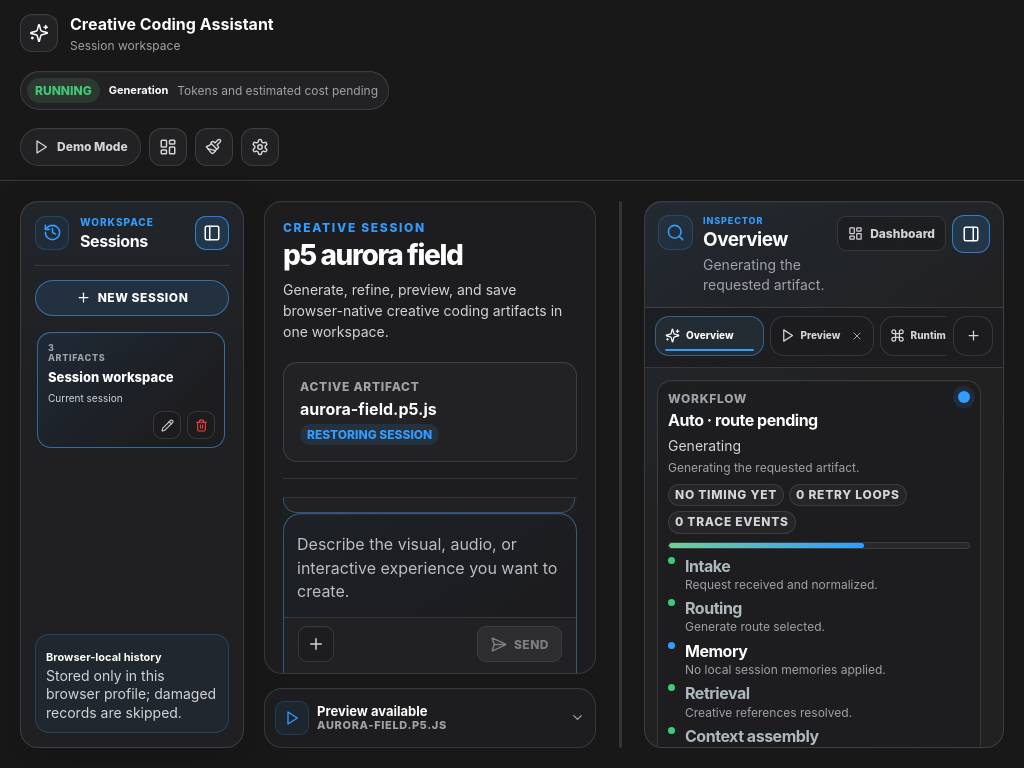
WorkstationShell › renders the three-zone creative workspace shell
The image size is (1024, 768).
(page scrolled)
Click the button named "Settings" at (260, 147), box left=241, top=128, right=279, bottom=166
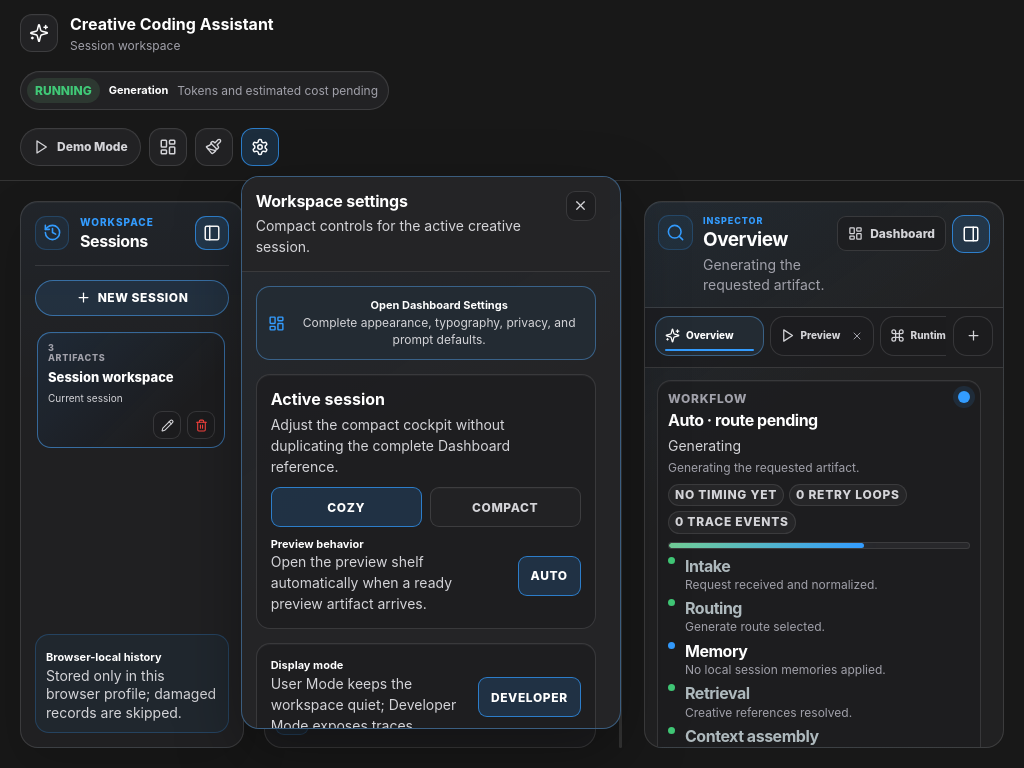
Click the button named "Settings" at (260, 147), box left=241, top=128, right=279, bottom=166
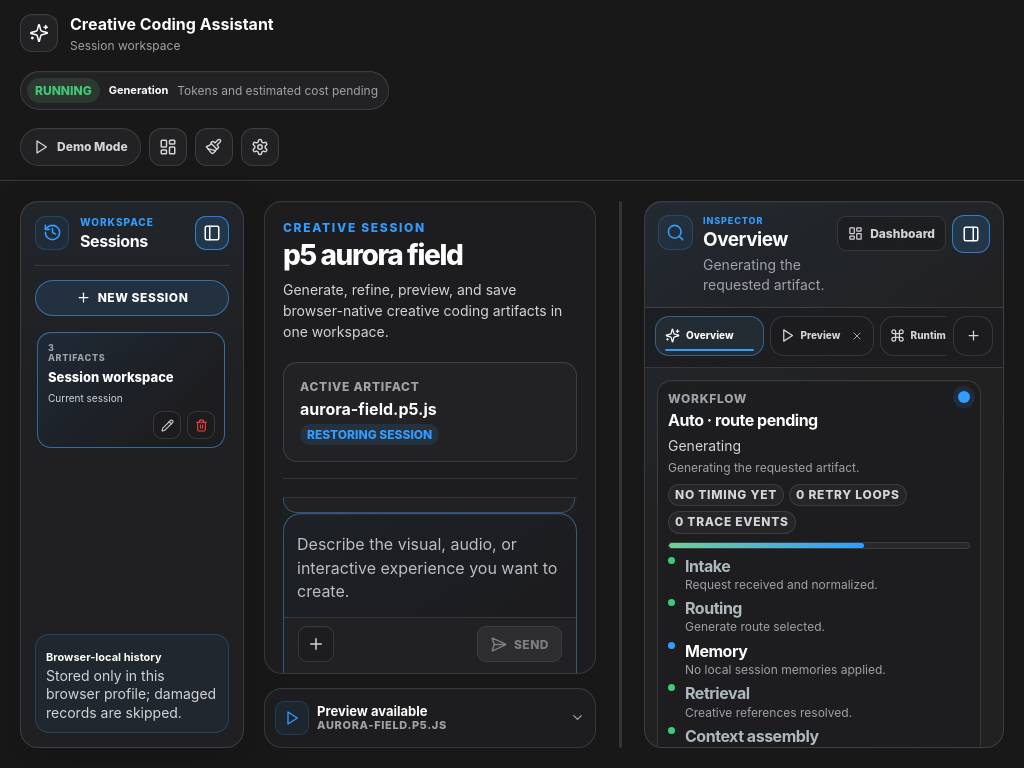
Check: the text "Creative Coding Assistant" is shown, box left=70, top=14, right=274, bottom=35
Check: the element "Creative session" is shown, box left=264, top=201, right=596, bottom=674
Click the button named "Settings" at (260, 147), box left=241, top=128, right=279, bottom=166
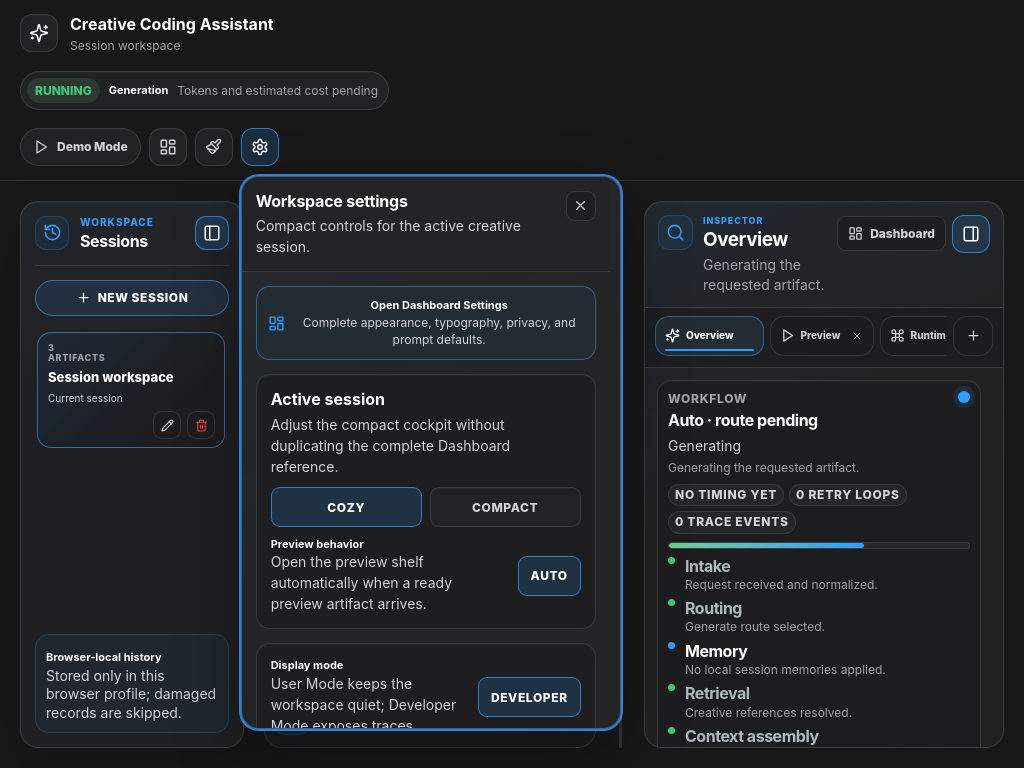
Check: the button named "Theme" is shown, box left=195, top=128, right=233, bottom=166
Check: the button with aria-label "Display mode" is shown, box left=478, top=677, right=581, bottom=717
Check: the element named "Workspace density options" is shown, box left=271, top=487, right=581, bottom=527
